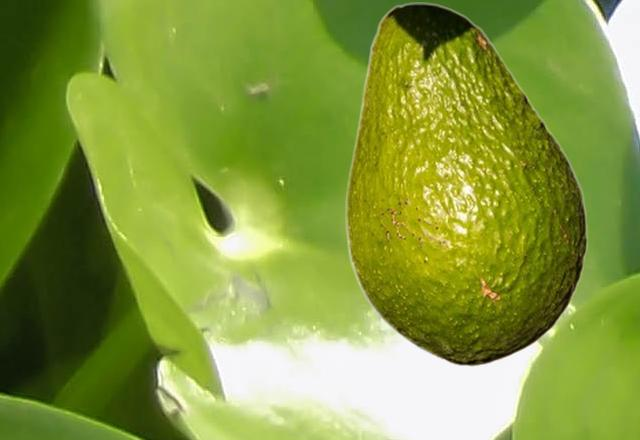avocado: (345, 2, 587, 365)
